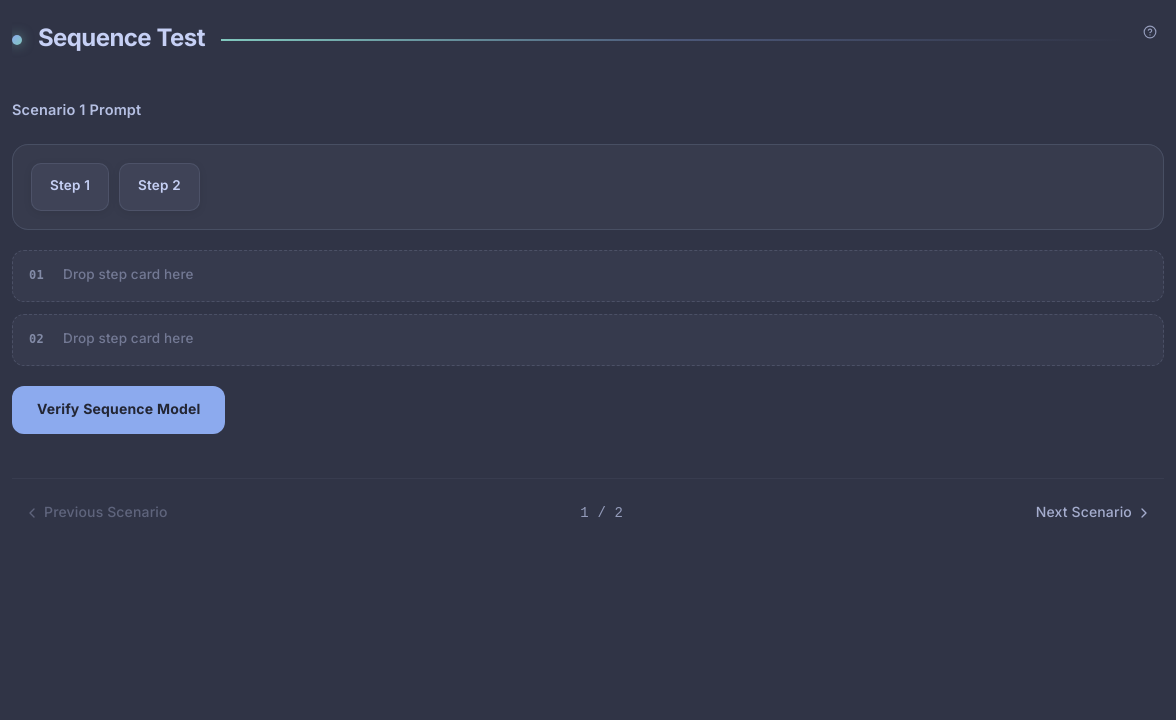
Scenario: ReflectionSequence Multi-Scenario › renders first scenario and navigates to the second scenario
Expected: the text "Scenario 1 Prompt" is shown, x1=12 y1=100 x2=141 y2=123
Expected: the text "Step 1" is shown, x1=50 y1=176 x2=90 y2=198
Navigate to second scenario
Click the button "Next Scenario".
click(1094, 513)  # box x1=1024 y1=495 x2=1164 y2=531
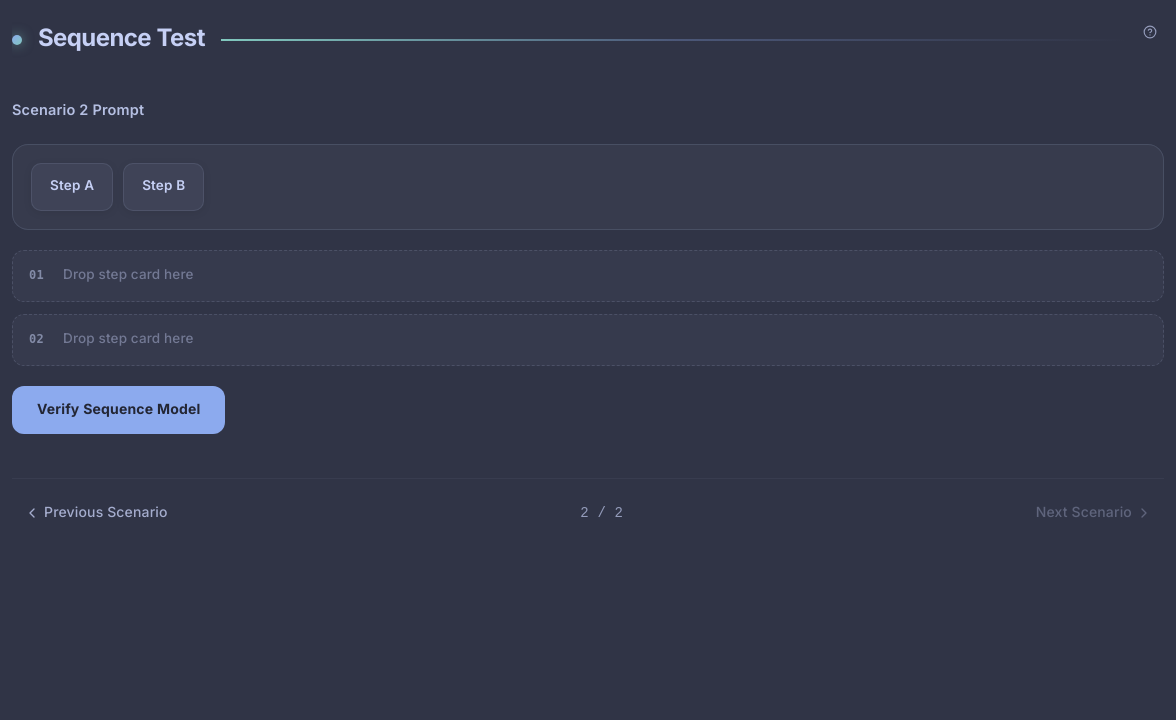
Result: the text "Scenario 2 Prompt" is shown at x1=12 y1=100 x2=144 y2=123
Result: the text "Step A" is shown at x1=50 y1=176 x2=94 y2=198
Result: the text "Step B" is shown at x1=142 y1=176 x2=185 y2=198
